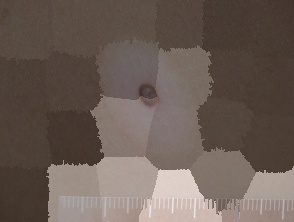vitiligo: (85, 23, 227, 179)
